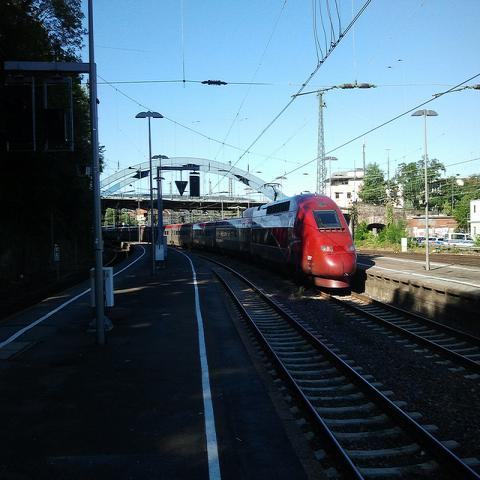truck: (442, 232, 474, 246)
